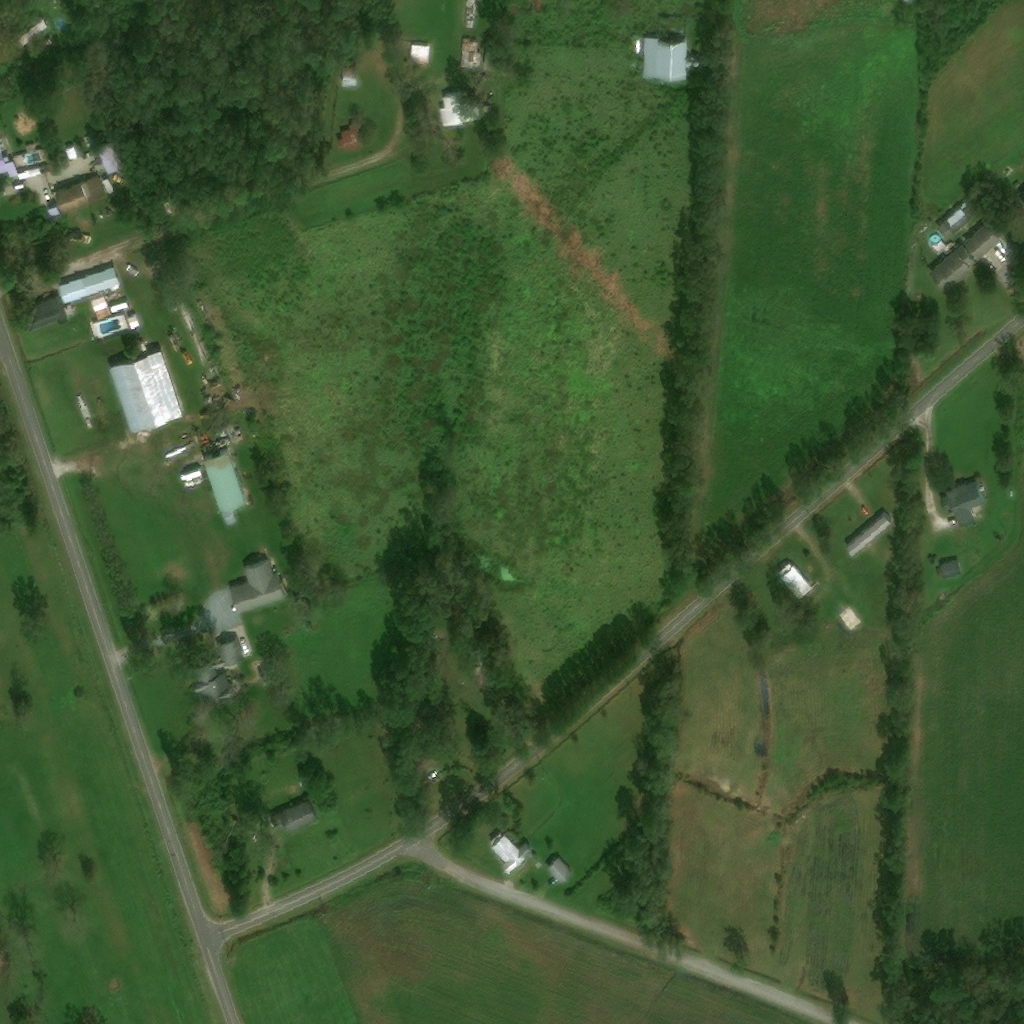no_damage: (109, 347, 184, 430), (185, 637, 244, 707), (229, 558, 289, 612), (200, 447, 250, 510), (843, 510, 893, 557), (58, 264, 120, 301), (928, 245, 976, 290), (638, 33, 684, 79), (938, 480, 985, 525), (52, 175, 105, 214), (488, 831, 534, 875), (17, 294, 68, 333), (934, 199, 980, 241), (265, 797, 317, 834), (408, 731, 456, 770), (437, 88, 480, 128), (961, 220, 1001, 260), (776, 561, 812, 600), (95, 141, 123, 173), (17, 19, 48, 47), (88, 289, 111, 320), (546, 857, 572, 884), (337, 123, 362, 151), (837, 607, 862, 633), (460, 37, 478, 66), (472, 663, 494, 683), (936, 559, 960, 577), (464, 0, 476, 29), (1, 154, 16, 177), (340, 67, 356, 86), (223, 508, 238, 526), (408, 44, 428, 57), (1, 953, 11, 972), (39, 39, 53, 51), (1016, 187, 1024, 203), (530, 852, 539, 862), (680, 56, 687, 63), (687, 57, 693, 63)
